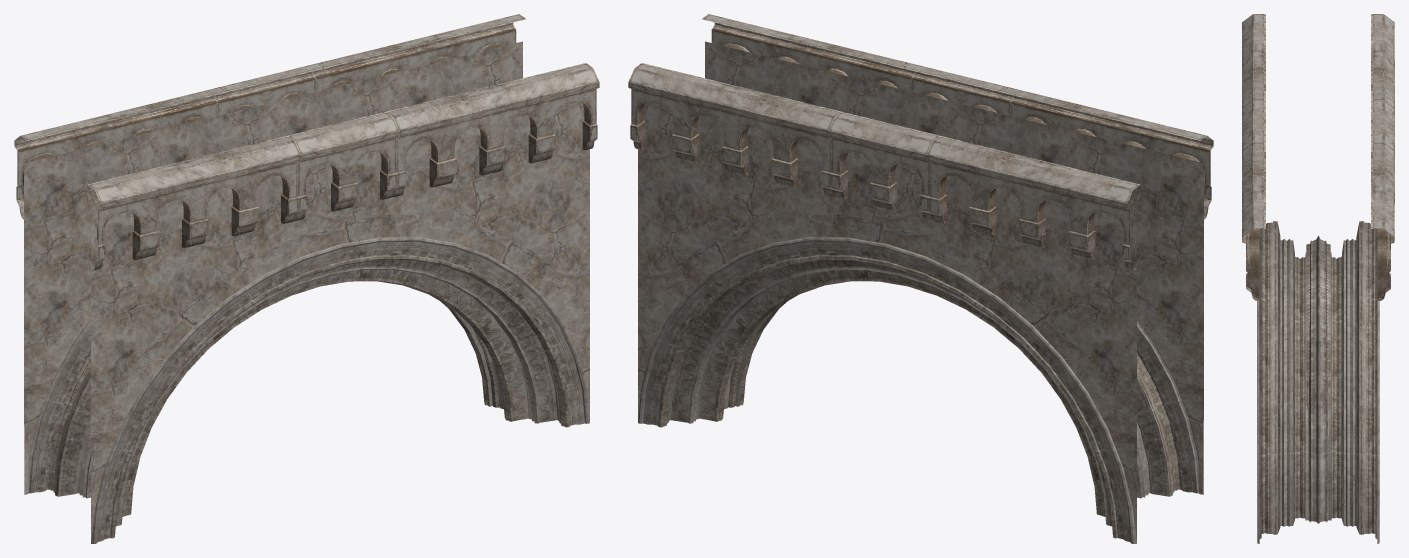
The picture shows the model from 3 angles, left to right: view 1: azimuth 30°, elevation 25°; view 2: azimuth 150°, elevation 25°; view 3: azimuth 270°, elevation 25°; orthographic projection. The views are drawn at different scales.
Parts seen in each view (by area): view 1: SM_ArcadeCeiling_v3_LOD0; view 2: SM_ArcadeCeiling_v3_LOD0; view 3: SM_ArcadeCeiling_v3_LOD0.
Boxes of the visible parts, left/top/right/bottom form: SM_ArcadeCeiling_v3_LOD0: left=14, top=14, right=599, bottom=543; SM_ArcadeCeiling_v3_LOD0: left=628, top=14, right=1213, bottom=543; SM_ArcadeCeiling_v3_LOD0: left=1242, top=14, right=1394, bottom=543.
Bounding box in the file's own units: 9 × 6.15 × 2.7.
Materials: 3 (3 with a texture image).
